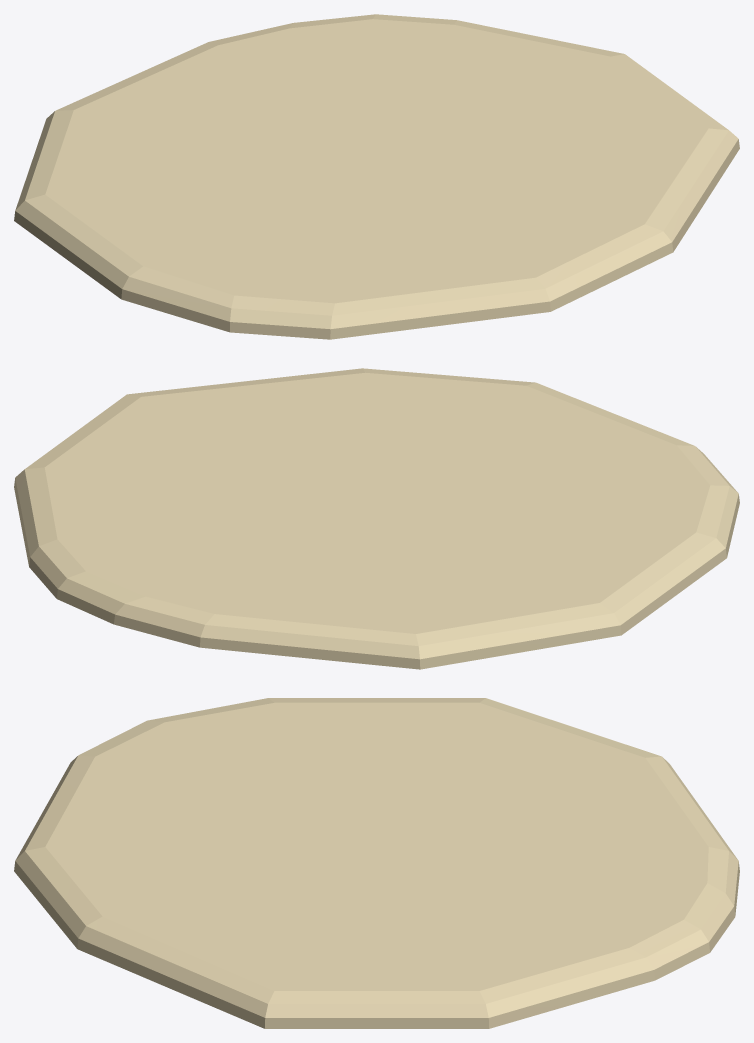
Rendered from dough.glb.
3 renders of one model, top to bottom at view 1: azimuth 30°, elevation 25°; view 2: azimuth 150°, elevation 25°; view 3: azimuth 270°, elevation 25°, orthographic. The views are drawn at different scales.
Parts seen in each view (by area): view 1: Dough.001; view 2: Dough.001; view 3: Dough.001.
Boxes of the visible parts, x1,y1,x2,y2 form: Dough.001: (14, 14, 739, 339); Dough.001: (14, 368, 739, 669); Dough.001: (14, 698, 739, 1028).
Size of the model in its own units: 0.5743 by 0.0207 by 0.5587.
1 material, 1 textured.
